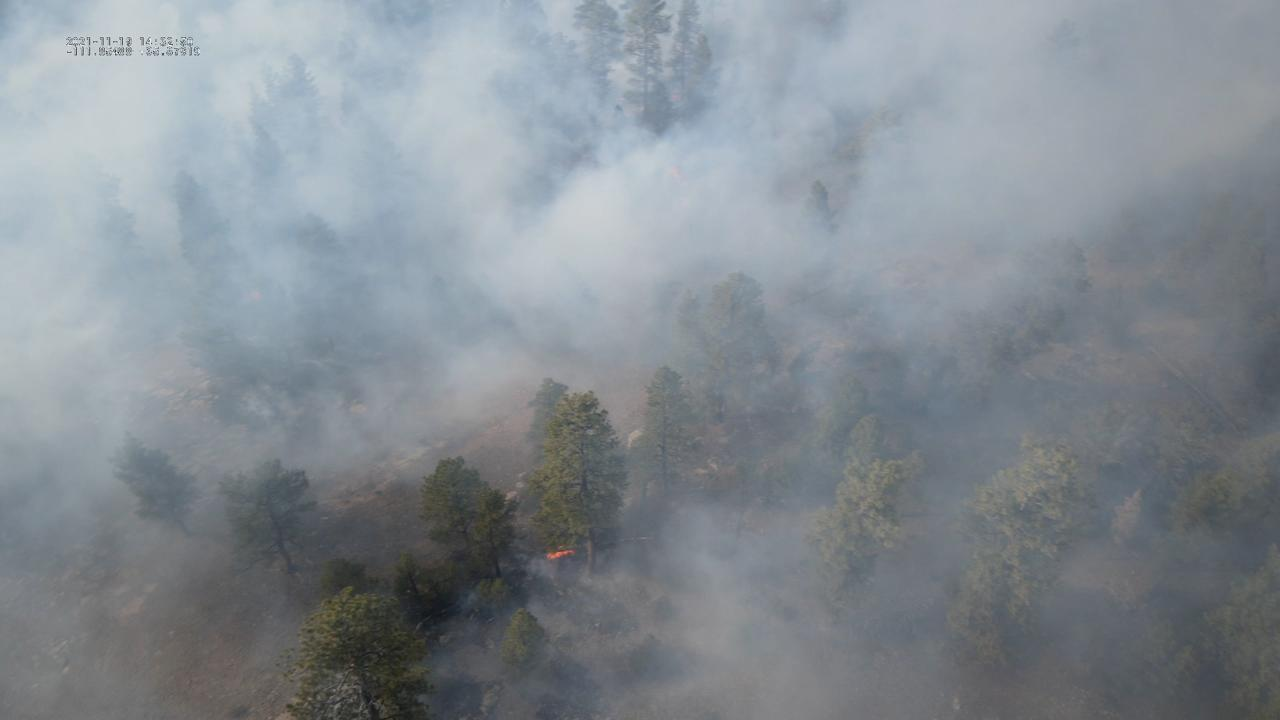fire: (542, 550, 574, 561)
smoke: (0, 0, 1280, 720)
